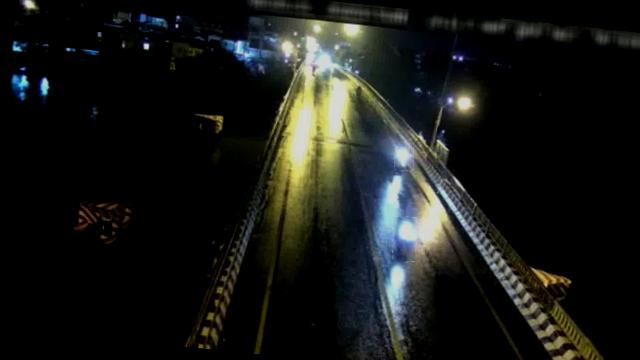Bike: (390, 216, 420, 262), (393, 146, 414, 172)
